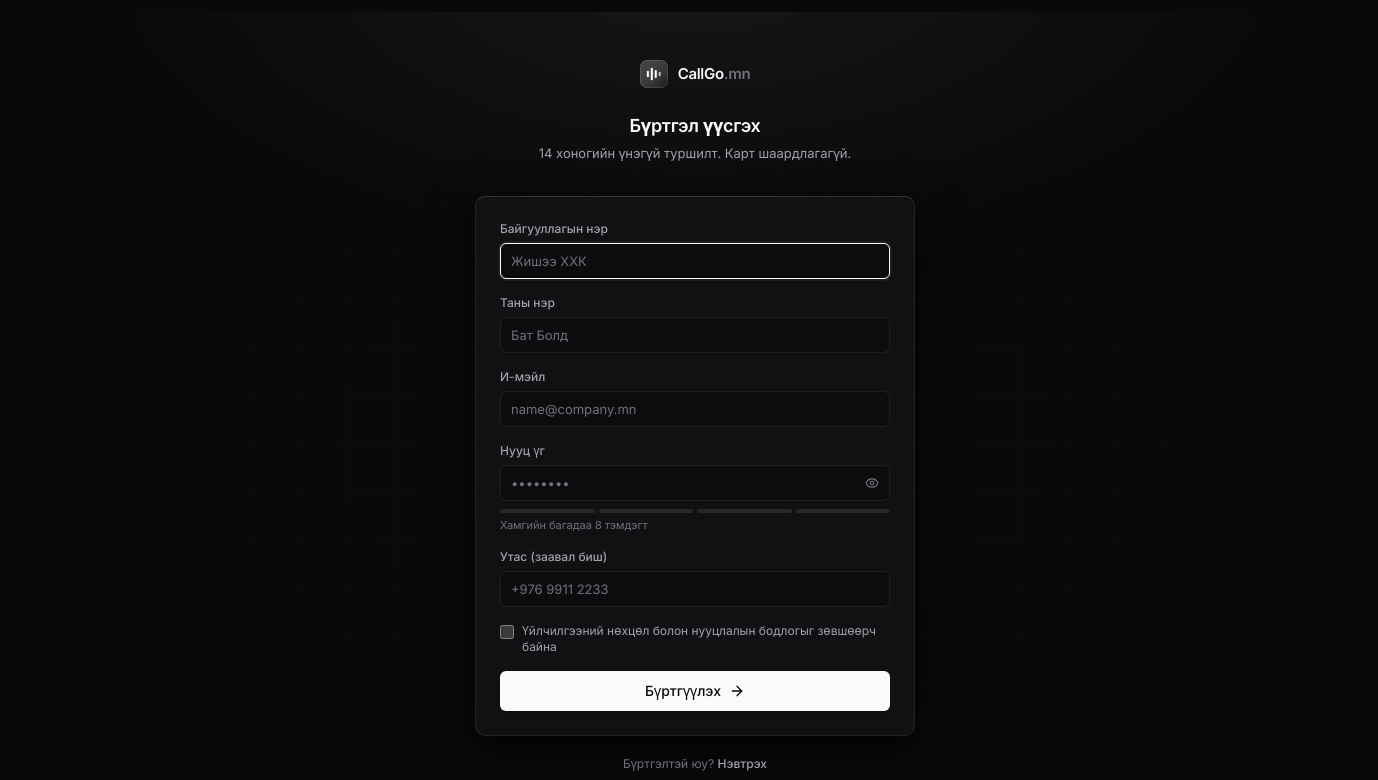
SignupPage › creates the account and lands on the dashboard with the verify banner
Type "Acme ХХК" into the field labelled "Байгууллагын нэр" at (695, 260), box left=500, top=242, right=890, bottom=278
Type "Бат" into the field labelled "Таны нэр" at (695, 334), box left=500, top=316, right=890, bottom=352
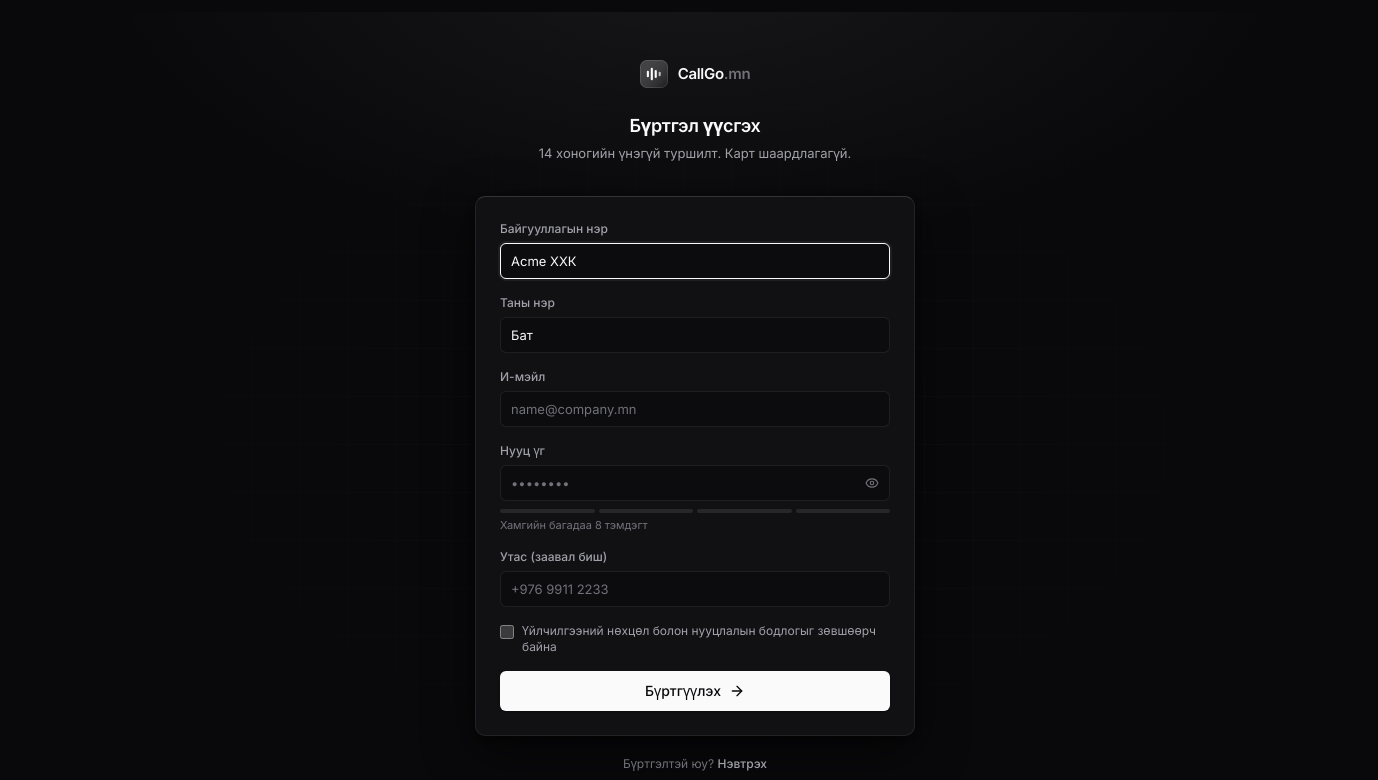
Type "bat@acme.mn" into the field labelled "И-мэйл" at (695, 408), box left=500, top=390, right=890, bottom=426
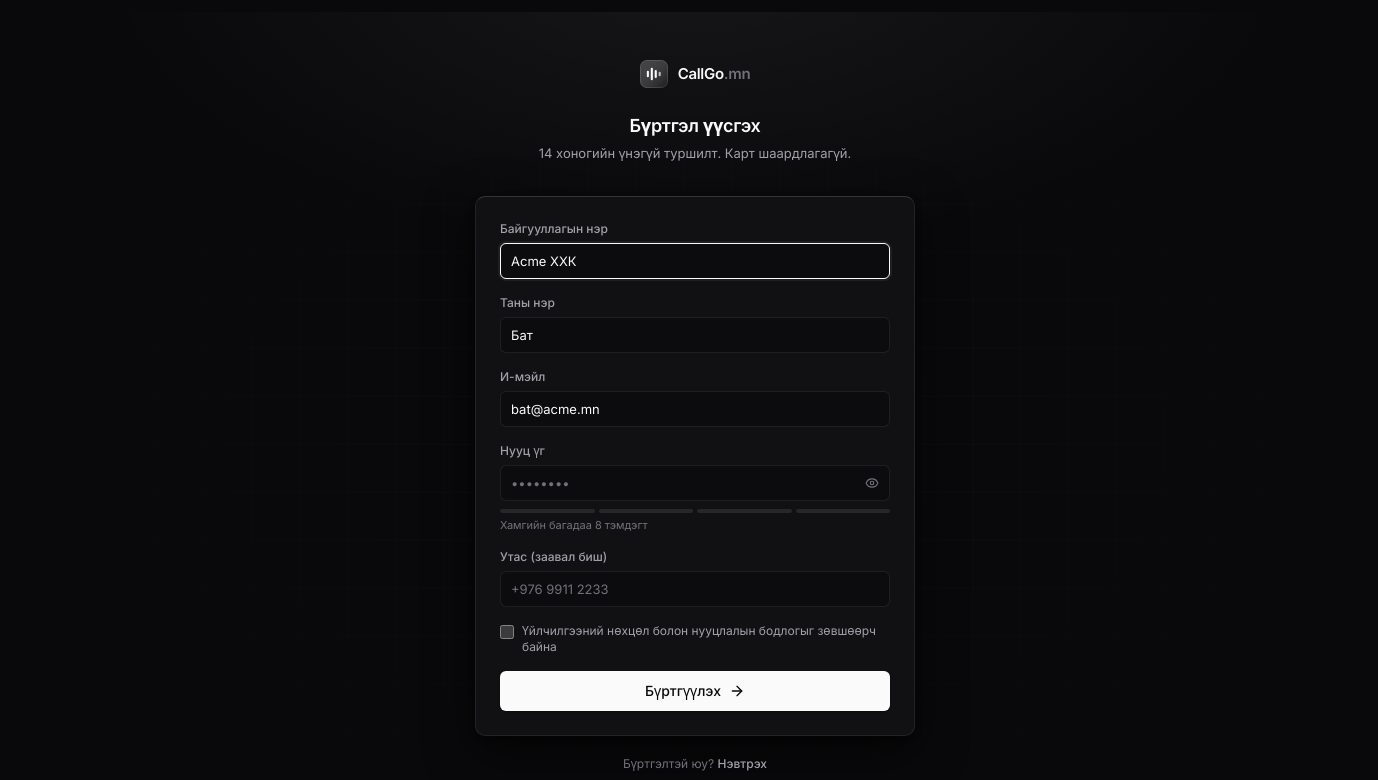
Type "Secret123!" into the password field labelled "Нууц үг" at (695, 482), box left=500, top=464, right=890, bottom=500
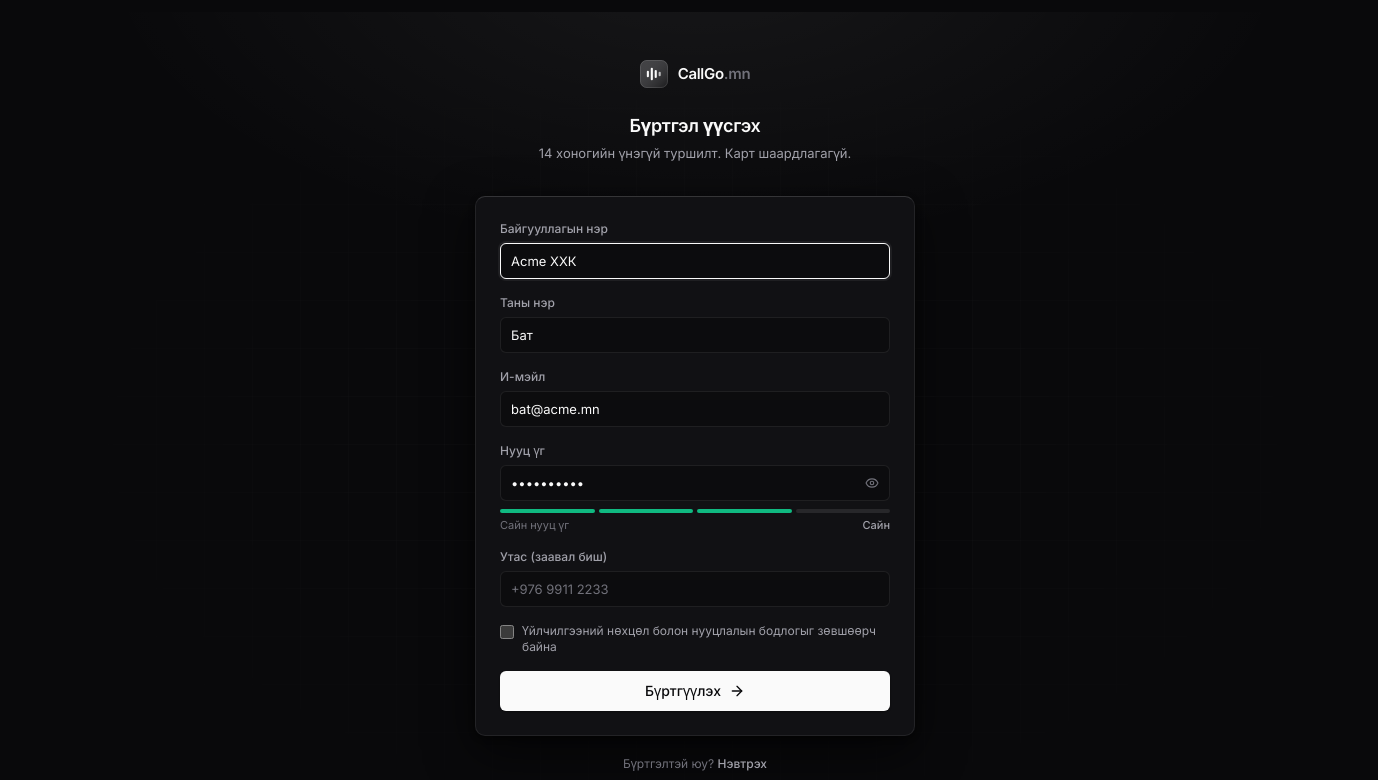
Type "+97699112233" into the field labelled "Утас (заавал биш)" at (695, 589), box left=500, top=571, right=890, bottom=607
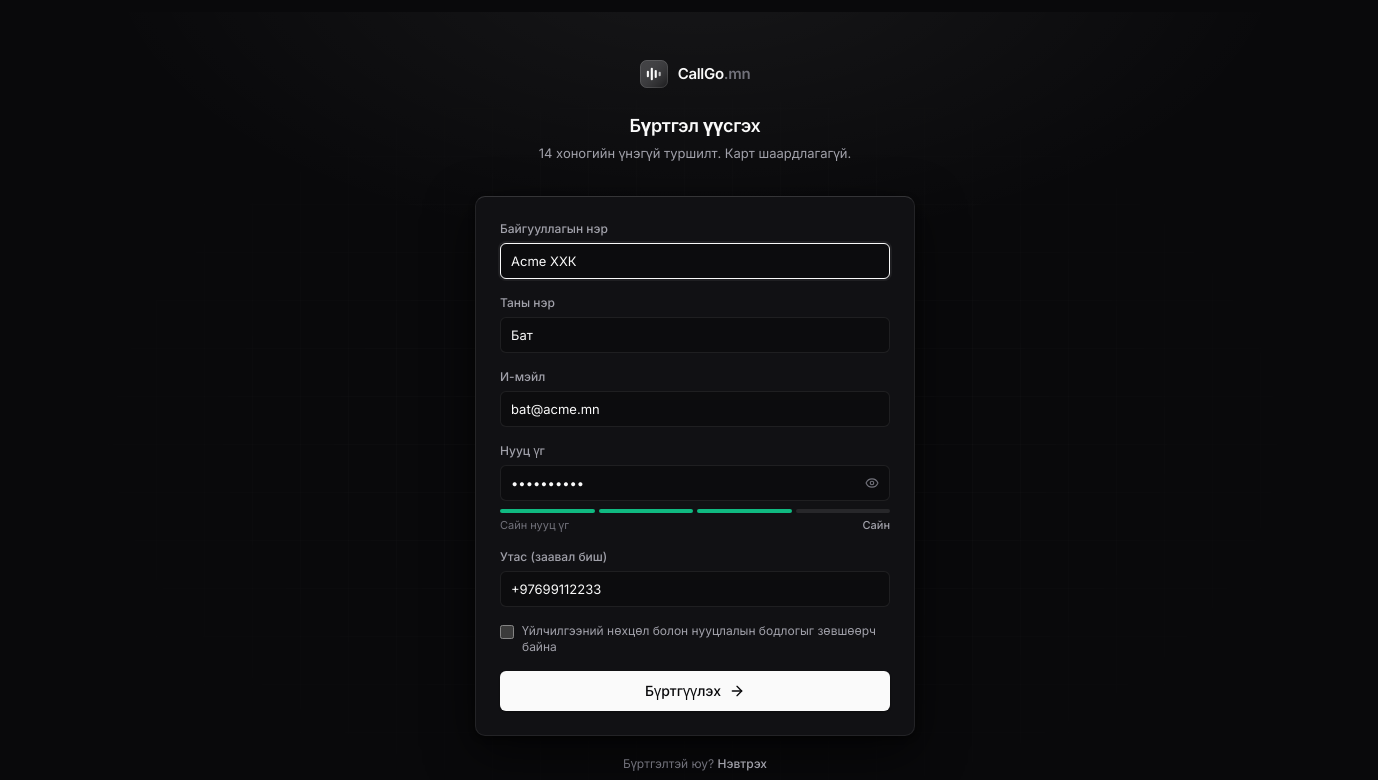
Click the checkbox labelled "Үйлчилгээний нөхцөл болон нууцлалын бодлогыг зөвшөөрч байна" at (507, 632), box left=500, top=625, right=514, bottom=639
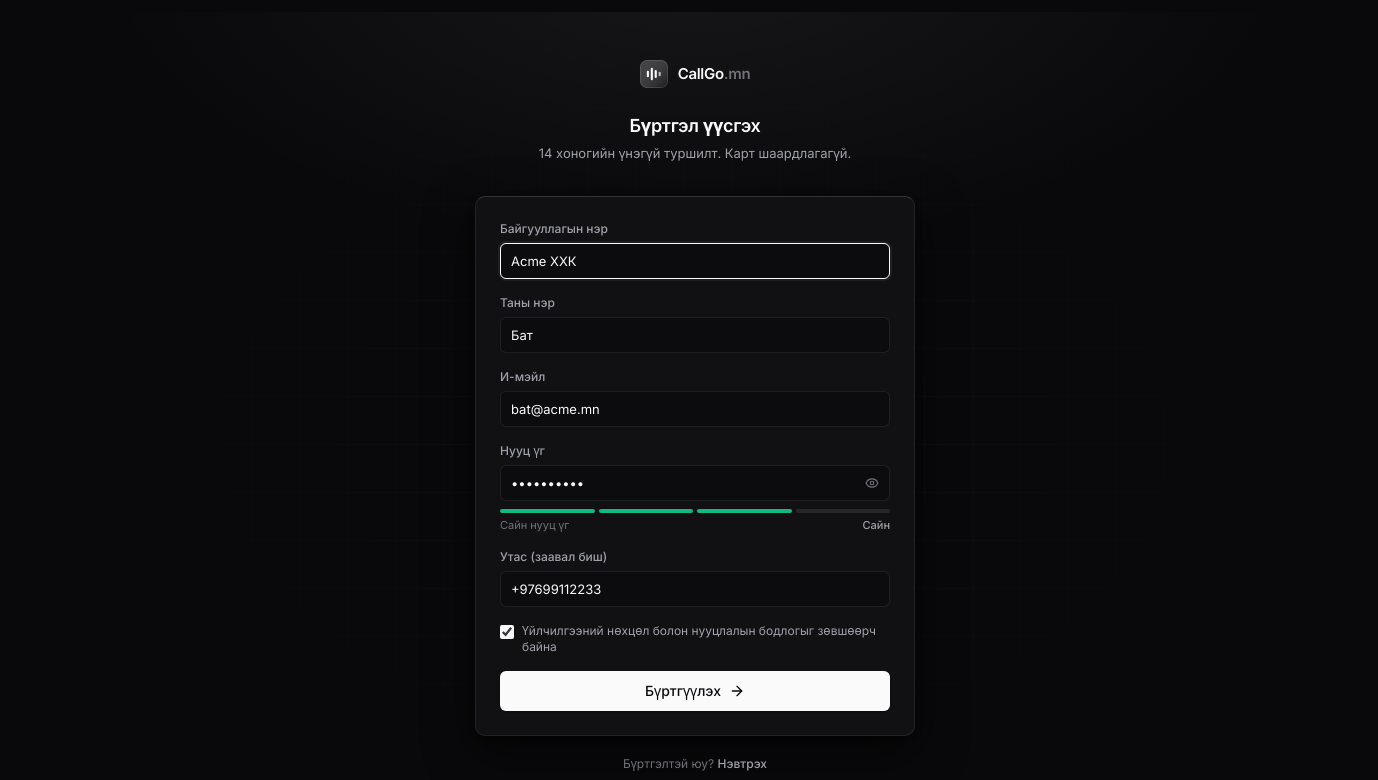
Click the button "Бүртгүүлэх" at (695, 691), box left=500, top=671, right=890, bottom=711
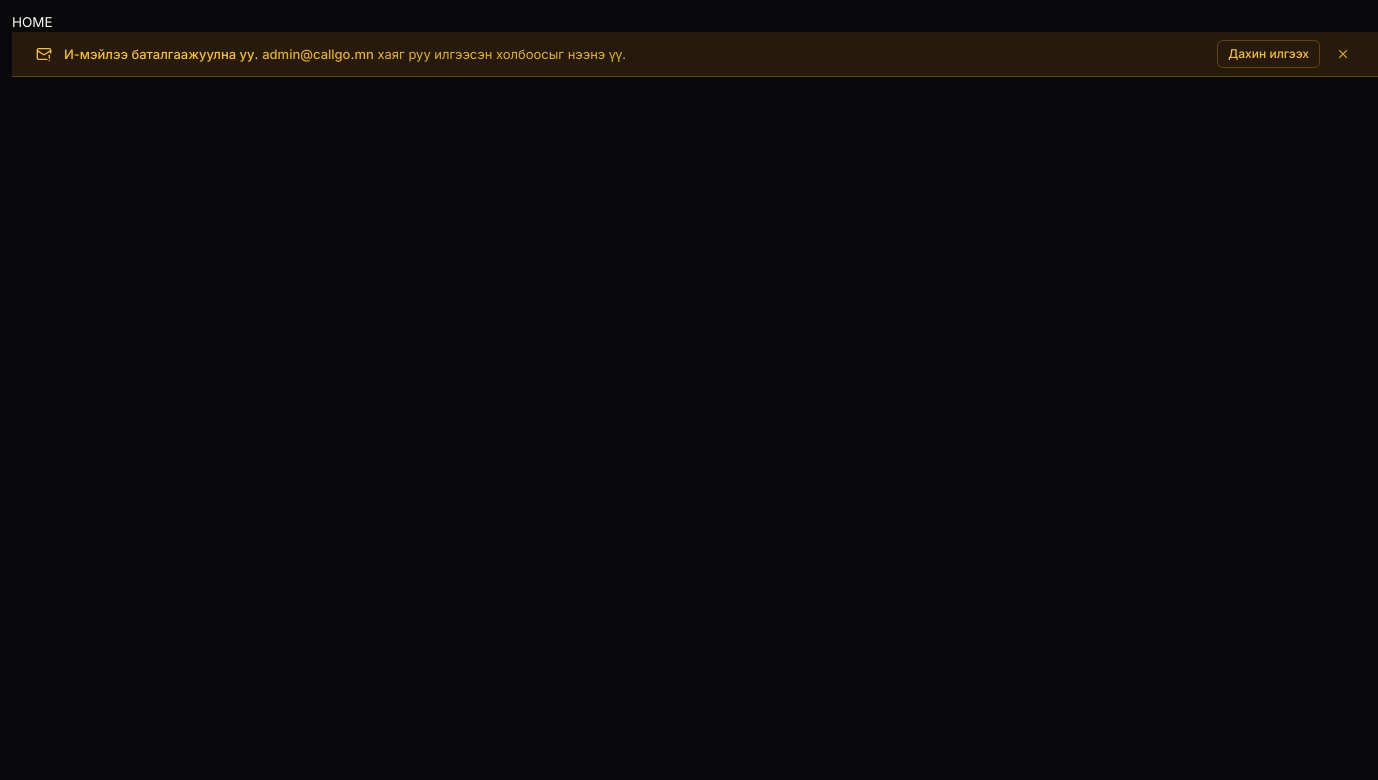
expect the text "HOME" is shown: met, box left=12, top=14, right=53, bottom=30
expect the element named "И-мэйл баталгаажуулалт" shows "И-мэйлээ баталгаажуулна уу": met, box left=64, top=46, right=258, bottom=62
